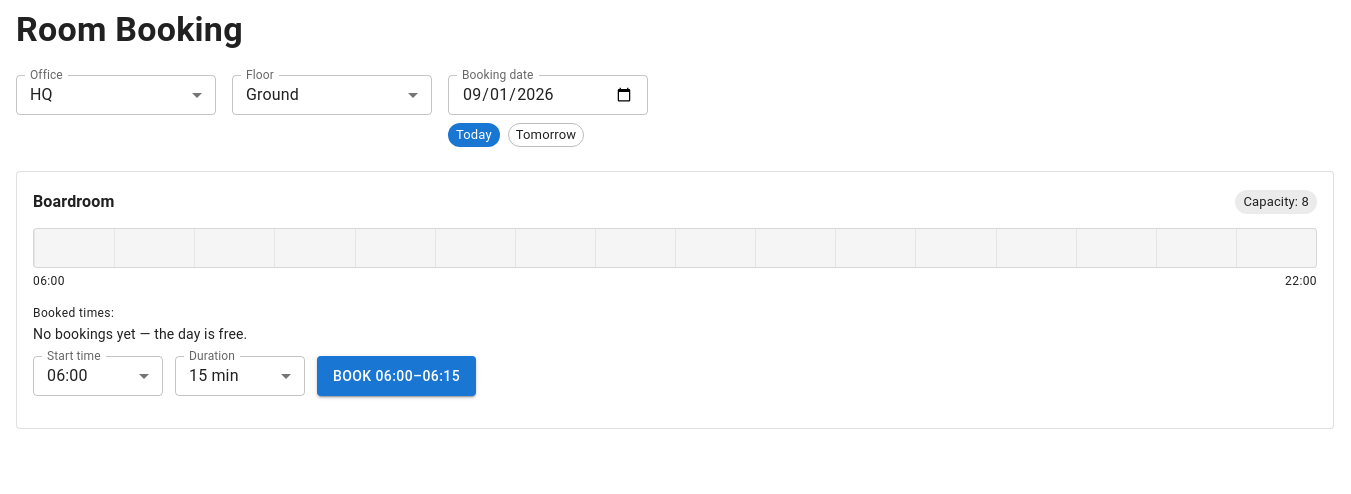
Test: RoomBookingPage › renders the server 409 detail inline on the room card
Click the button with test id "room-book-100".
click(396, 376)  # box [317,356,476,396]
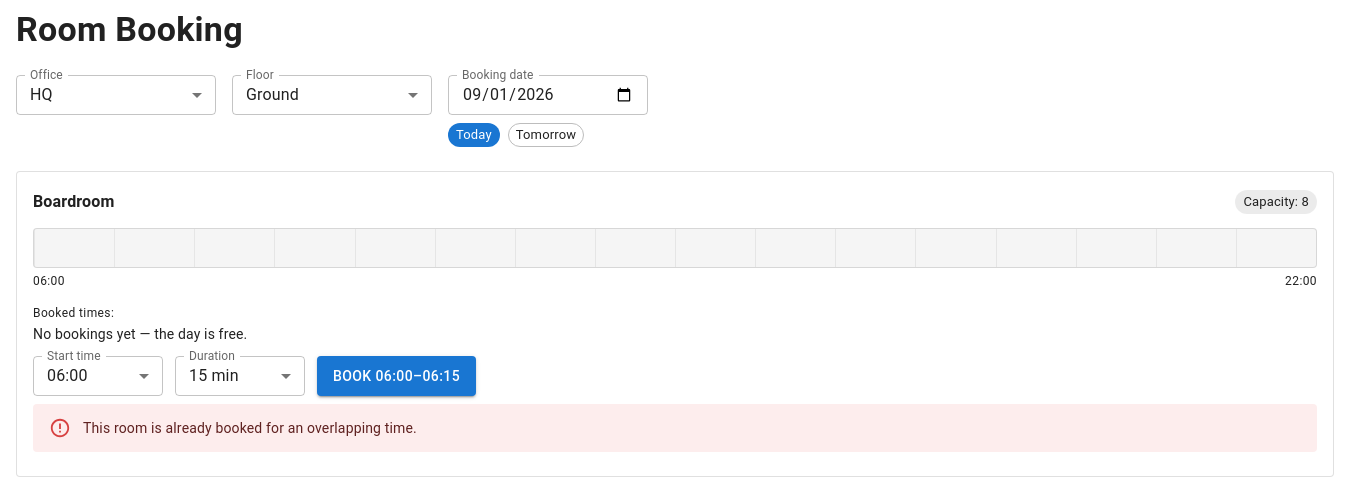
Expected: the message with test id "room-error-100" shows "overlapping time", [83,420,417,436]
